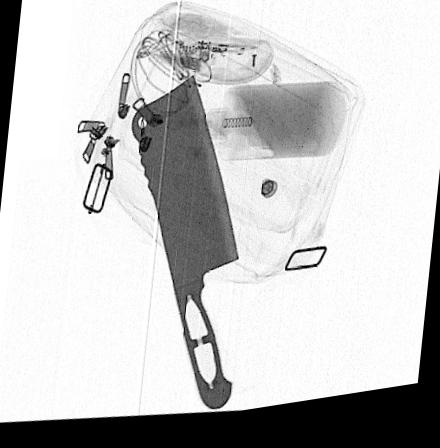Knife: (128, 78, 240, 418)
